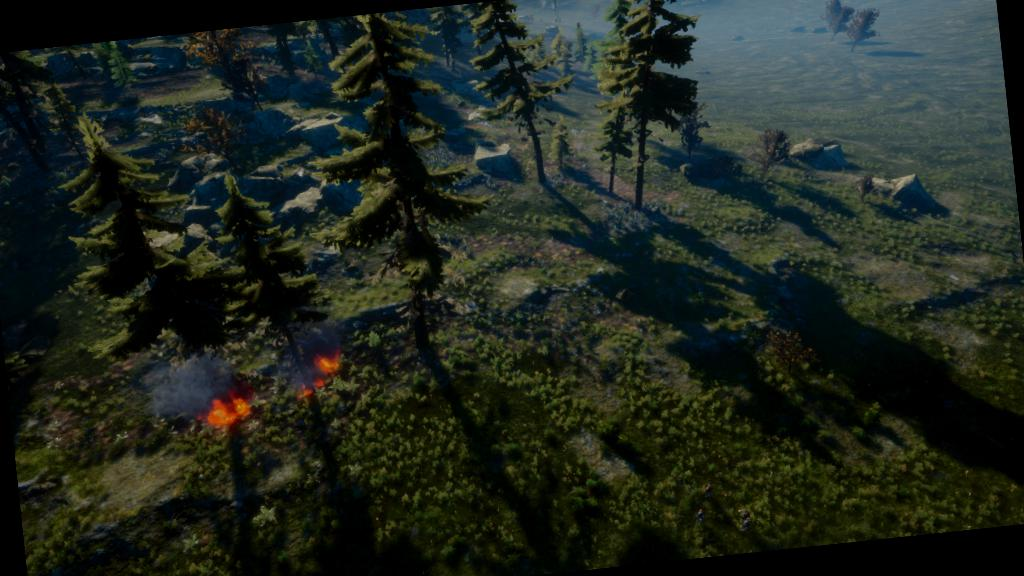Fire: (197, 386, 256, 430), (290, 370, 331, 404), (313, 344, 352, 375)
human: (690, 502, 711, 528), (697, 476, 720, 499), (737, 514, 755, 538)
smoke: (130, 337, 244, 431)
